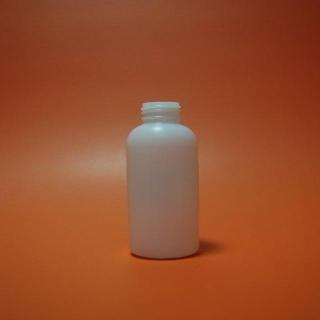Plastic-bottle: (119, 101, 215, 262)
